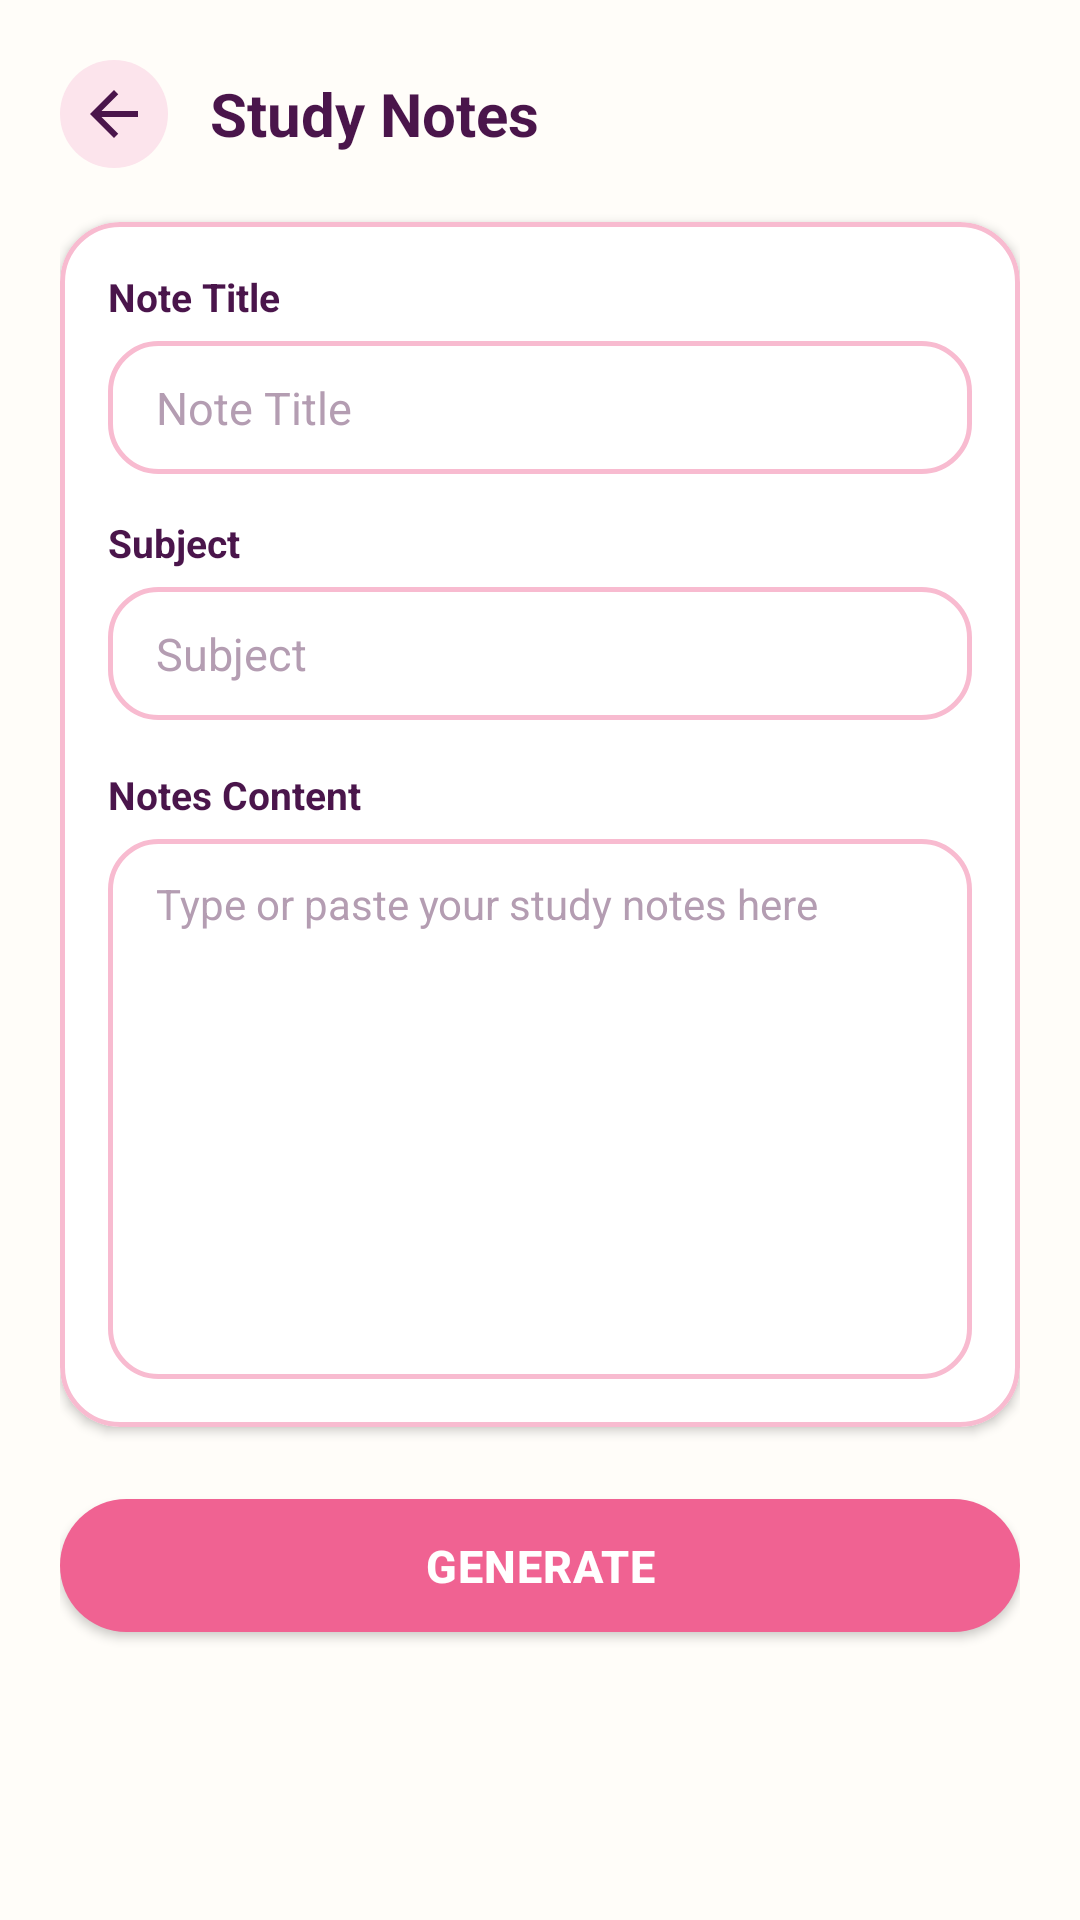

Locate icon controls on the screen. Image size 1080×1920, boxes as [left=x1, top=y1, right=x2, bottom=y2].
Back: [left=60, top=60, right=168, bottom=168]
